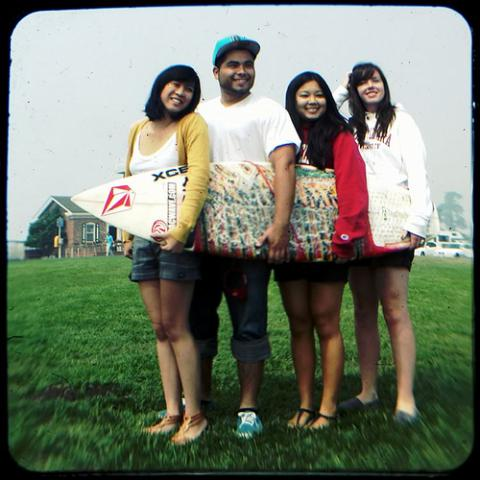car: (414, 240, 446, 257), (438, 242, 472, 258)
